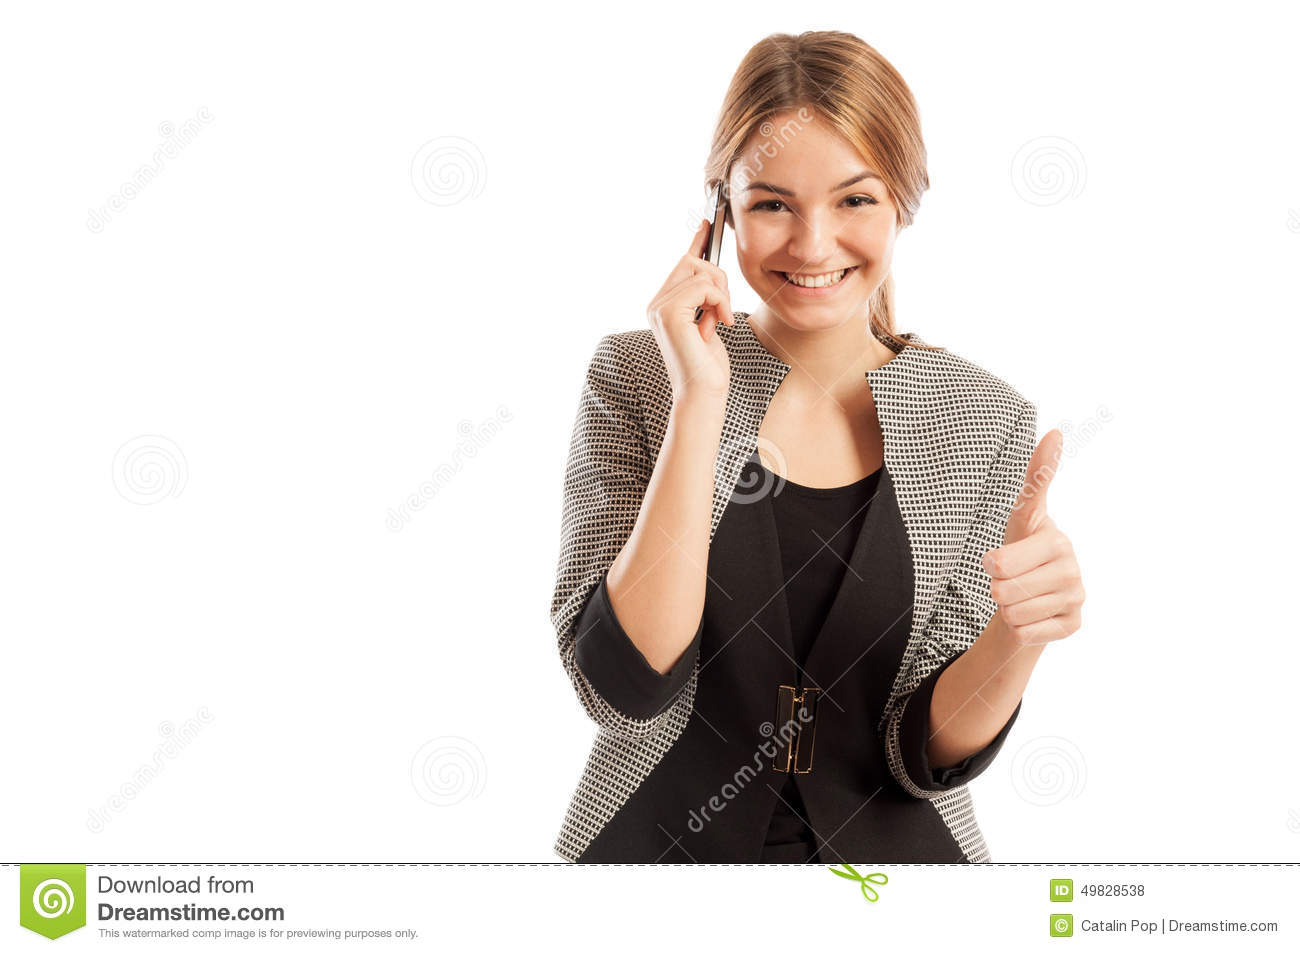phone: (694, 182, 729, 325)
talk: (646, 169, 893, 420)
